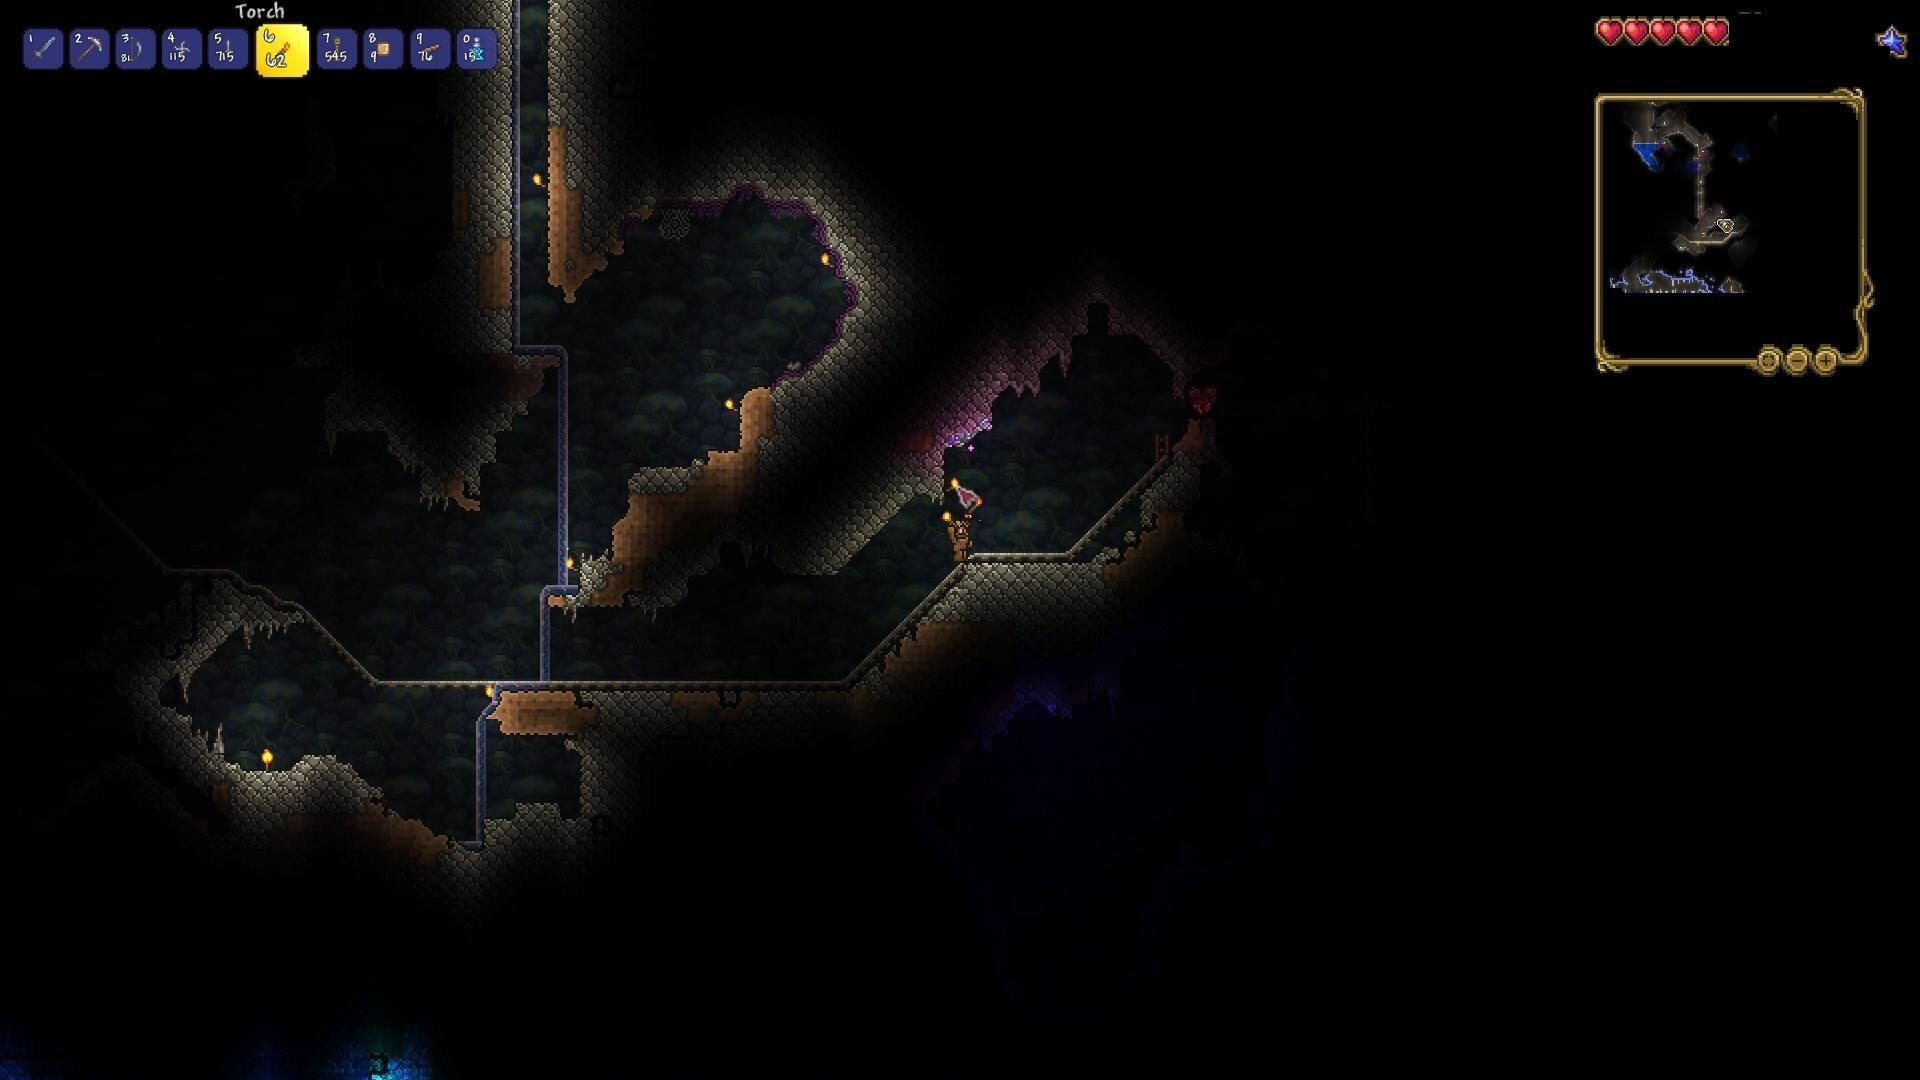heart: (1702, 17, 1733, 51), (1593, 16, 1626, 46), (1676, 15, 1704, 50), (1650, 16, 1676, 49), (1625, 15, 1651, 44)
stone: (762, 458, 935, 580), (171, 740, 375, 804), (473, 0, 529, 235), (934, 331, 1059, 422), (932, 551, 1105, 617), (447, 786, 576, 873), (583, 676, 663, 811), (140, 637, 215, 750), (828, 223, 881, 371), (195, 592, 316, 645), (443, 302, 525, 356), (750, 169, 843, 216), (547, 0, 580, 131), (574, 124, 611, 236), (769, 357, 822, 419), (574, 554, 608, 608), (632, 462, 694, 488)
